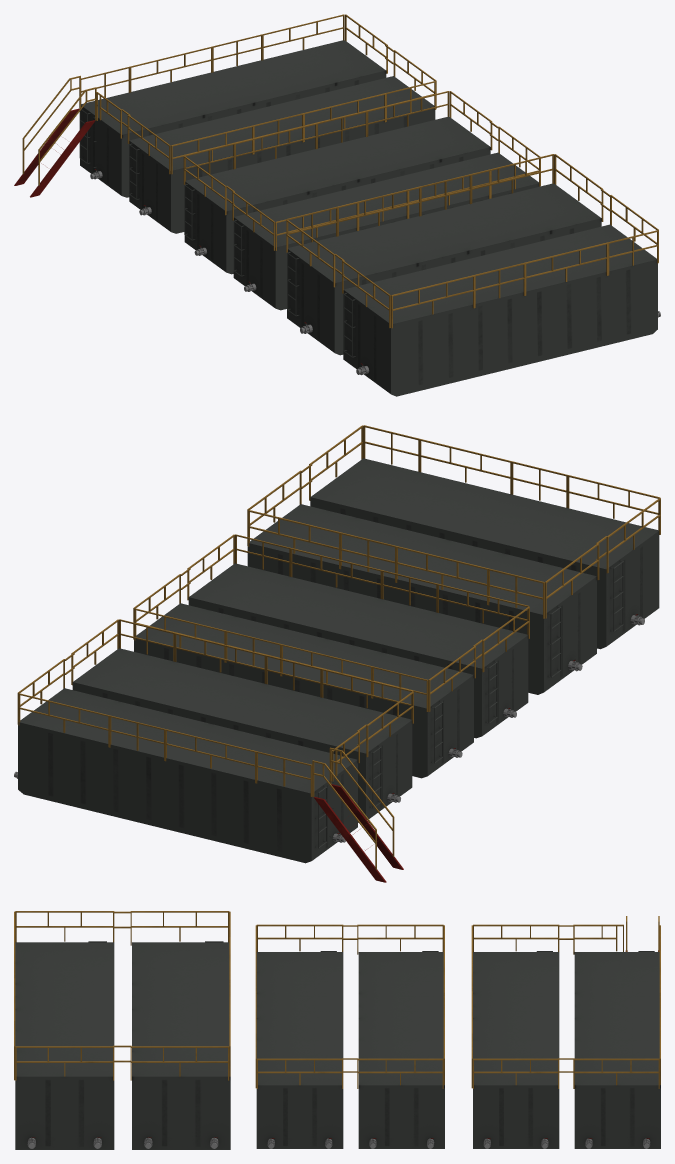
Rendered from index.gltf.
3 renders of one model, top to bottom at view 1: azimuth 30°, elevation 25°; view 2: azimuth 150°, elevation 25°; view 3: azimuth 270°, elevation 25°, orthographic. The views are drawn at different scales.
Visible parts, largest first — view 1: fangpenyeguan; view 2: fangpenyeguan; view 3: fangpenyeguan.
Boxes of the visible parts, <box> form: fangpenyeguan: <box>14,14,660,396</box>; fangpenyeguan: <box>14,425,660,882</box>; fangpenyeguan: <box>14,911,660,1149</box>.
Bounding box in the file's own units: 13.32 × 3.83 × 21.15.
1 material, 1 textured.
